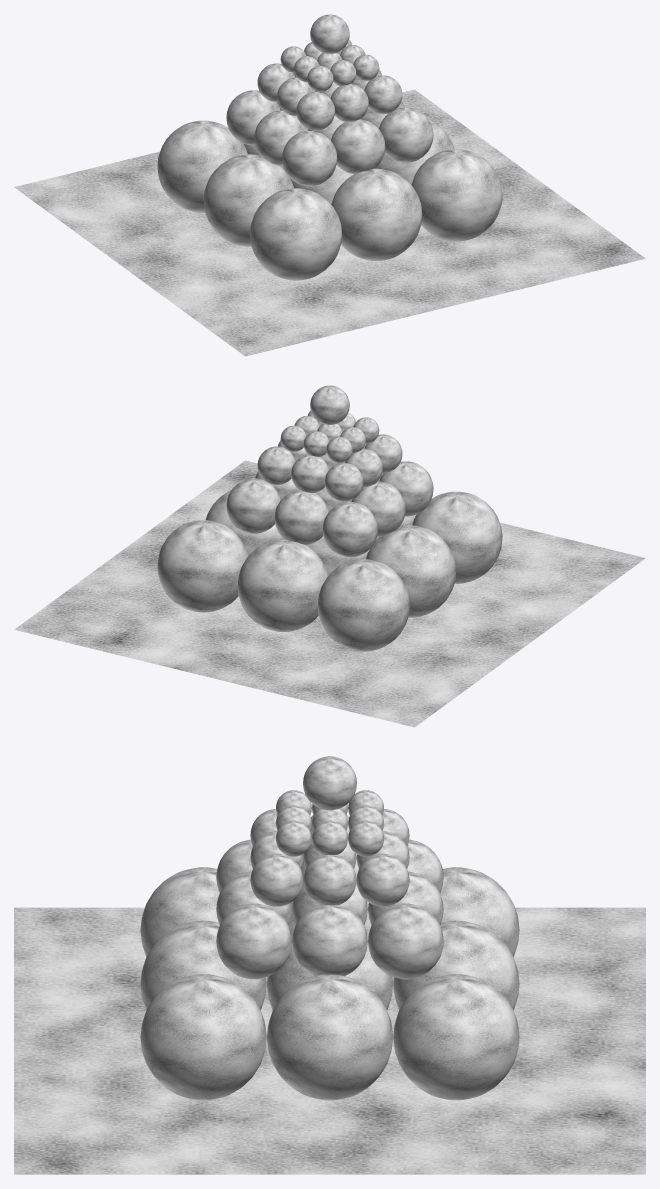
Rendered from aoTest.gltf.
The picture shows the model from 3 angles, top to bottom: view 1: azimuth 30°, elevation 25°; view 2: azimuth 150°, elevation 25°; view 3: azimuth 270°, elevation 25°; orthographic projection. The views are drawn at different scales.
Parts seen in each view (by area): view 1: Sphere.024; view 2: Sphere.024; view 3: Sphere.024.
Boxes of the visible parts, x1,y1,x2,y2 form: Sphere.024: (14, 14, 645, 356); Sphere.024: (14, 385, 645, 727); Sphere.024: (14, 756, 645, 1174).
Bounding box in the file's own units: 10 × 4.93 × 10.
Materials: 1 (1 with a texture image).
